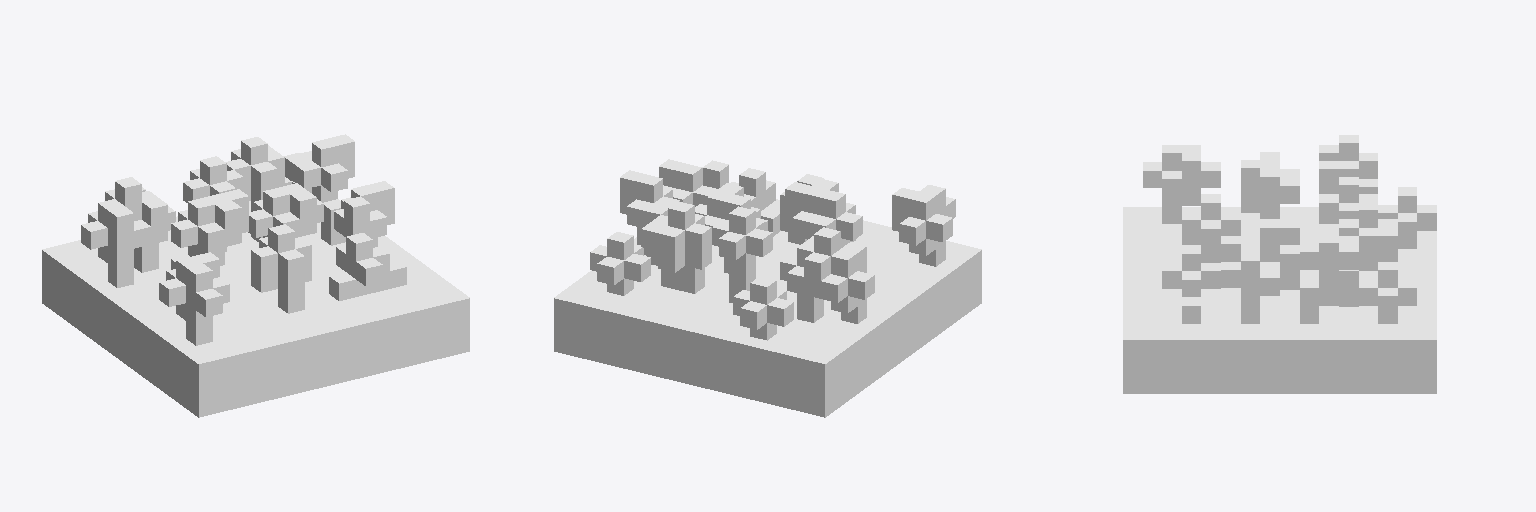
The model's file is forest2.obj.
The picture shows the model from 3 angles: view 1: azimuth 30°, elevation 25°; view 2: azimuth 150°, elevation 25°; view 3: azimuth 270°, elevation 25°; orthographic projection.
Visible parts, largest first — view 1: Forest2; view 2: Forest2; view 3: Forest2.
Part boxes in pixels (bbox=[...]): Forest2: bbox=[42, 134, 469, 417]; Forest2: bbox=[554, 159, 981, 417]; Forest2: bbox=[1123, 135, 1436, 393].
Bounding box in the file's own units: 16 × 8 × 16.